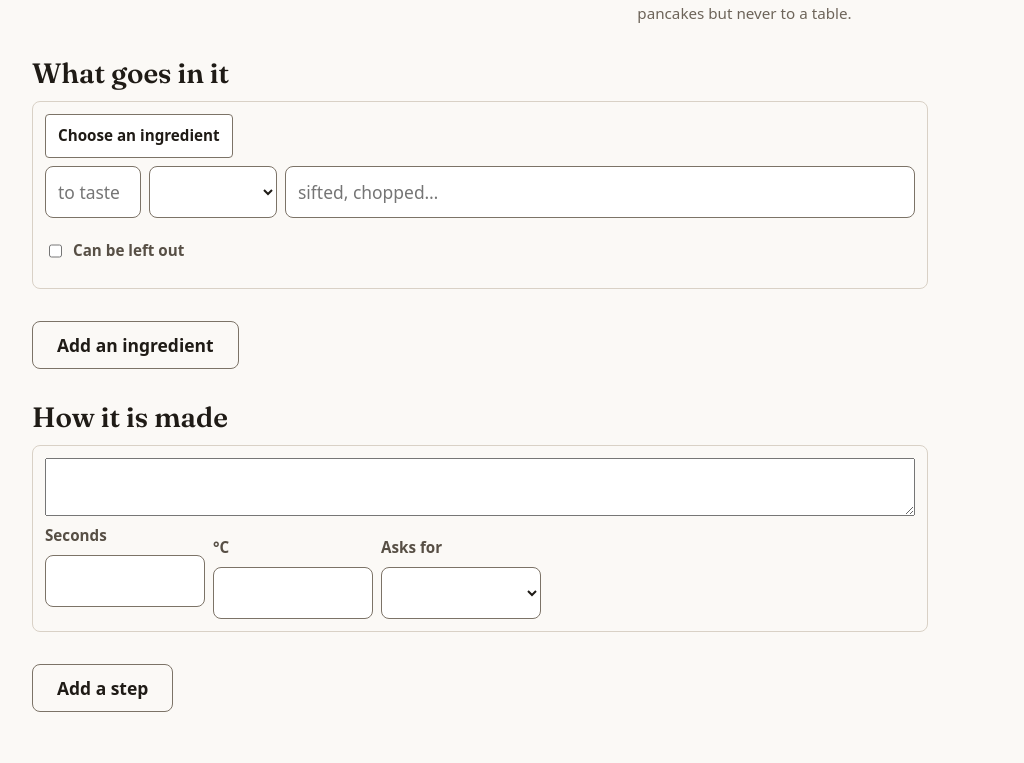
Test: RecipeFormComponent › lines and steps › a line can be taken out
The width and height of the screenshot is (1024, 763).
(page scrolled)
Click the button "Add an ingredient" at (135, 345), box x1=32 y1=321 x2=238 y2=369
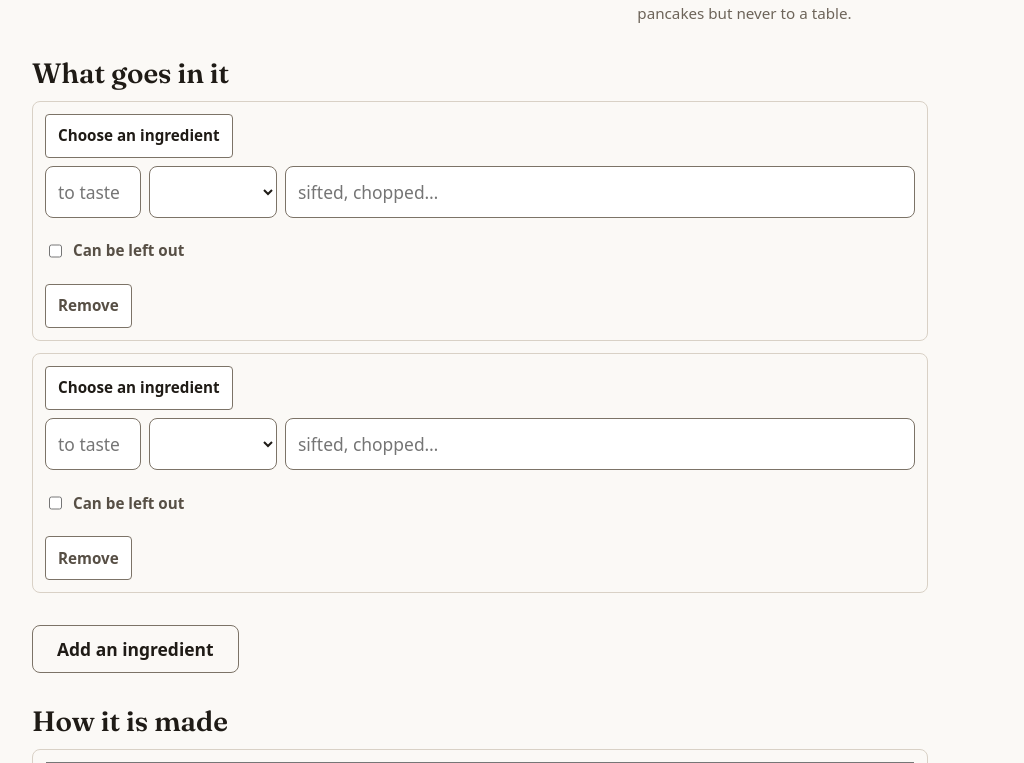
Click the 1st button with class "line__remove" at (88, 306), box x1=45 y1=284 x2=132 y2=328
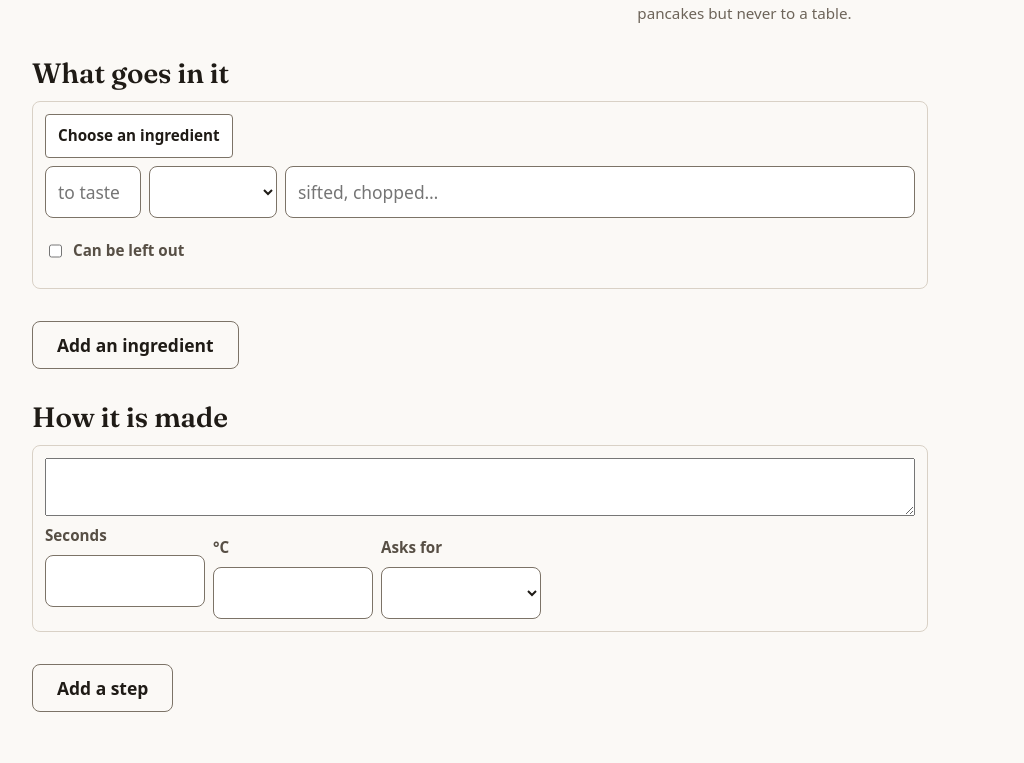
Check: the number of list items with class "line" is 1, box x1=32 y1=101 x2=928 y2=289
